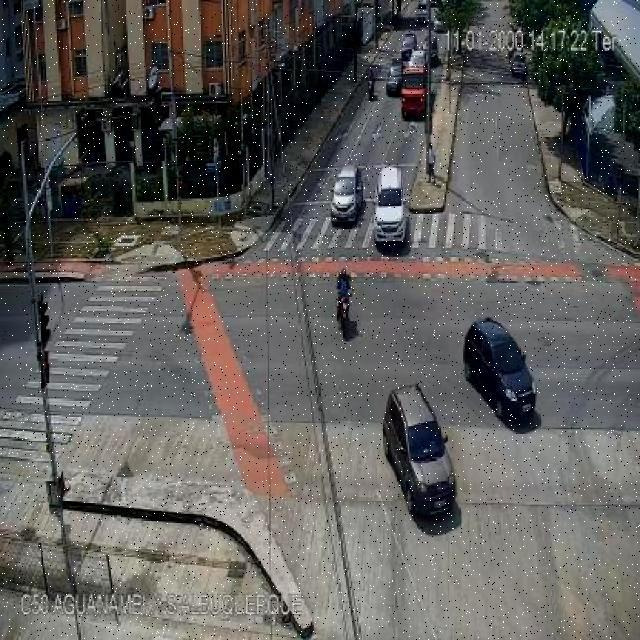Car: (385, 385, 458, 515), (462, 319, 537, 427), (373, 167, 406, 245), (330, 165, 363, 224), (385, 58, 403, 95), (510, 54, 527, 80), (414, 2, 432, 25), (401, 32, 417, 57), (432, 8, 444, 32)
Cycle: (334, 266, 356, 323), (366, 66, 376, 102)
Truck: (400, 64, 430, 122)
